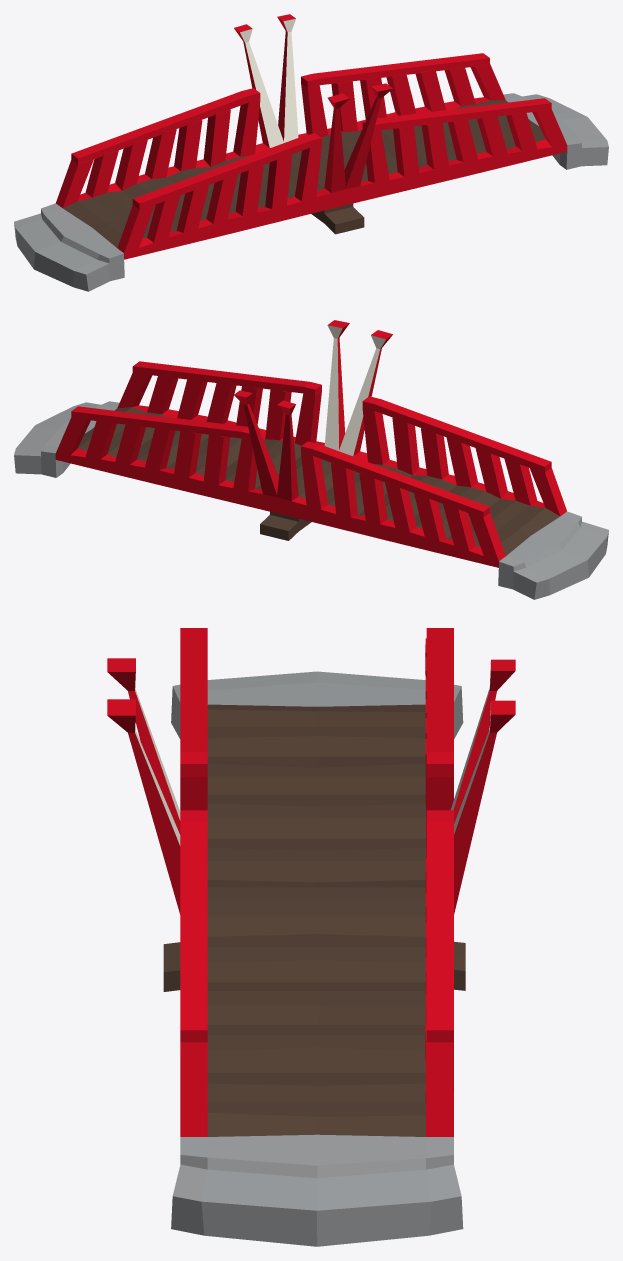
File: bridge.fbx
The picture shows the model from 3 angles, top to bottom: view 1: azimuth 30°, elevation 25°; view 2: azimuth 150°, elevation 25°; view 3: azimuth 270°, elevation 25°; orthographic projection. The views are drawn at different scales.
Visible parts, largest first — view 1: Cube; view 2: Cube; view 3: Cube.
Boxes of the visible parts, bbox=[...] form: Cube: bbox=[14, 14, 608, 291]; Cube: bbox=[14, 320, 608, 599]; Cube: bbox=[107, 628, 515, 1246].
Bounding box in the file's own units: 937 × 236 × 298.
